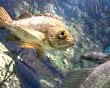mebaru: (0, 2, 78, 54)
